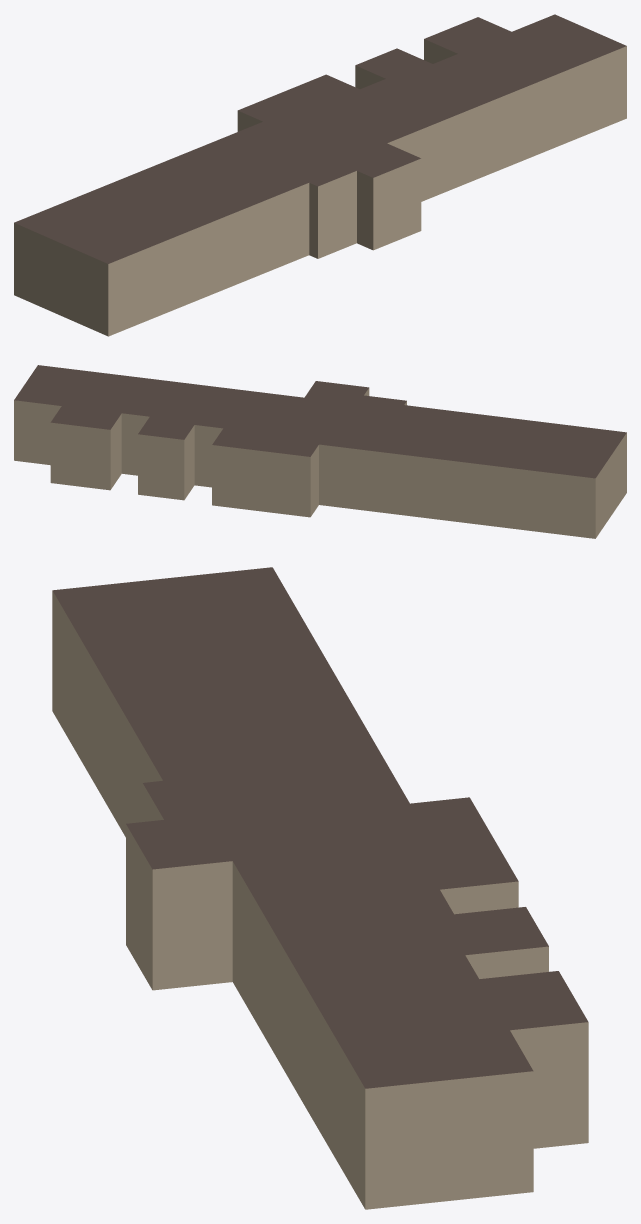
3 views of the same model, one above another, from view 1: azimuth 30°, elevation 25°; view 2: azimuth 150°, elevation 25°; view 3: azimuth 270°, elevation 25° (orthographic). The views are drawn at different scales.
Parts seen in each view (by area): view 1: HP-w1376988746; view 2: HP-w1376988746; view 3: HP-w1376988746.
Boxes of the visible parts, x1,y1,x2,y2 form: HP-w1376988746: (14,14,626,336); HP-w1376988746: (14,365,626,538); HP-w1376988746: (52,567,588,1209).
Bounding box in the file's own units: 55.48 × 6 × 24.1.
